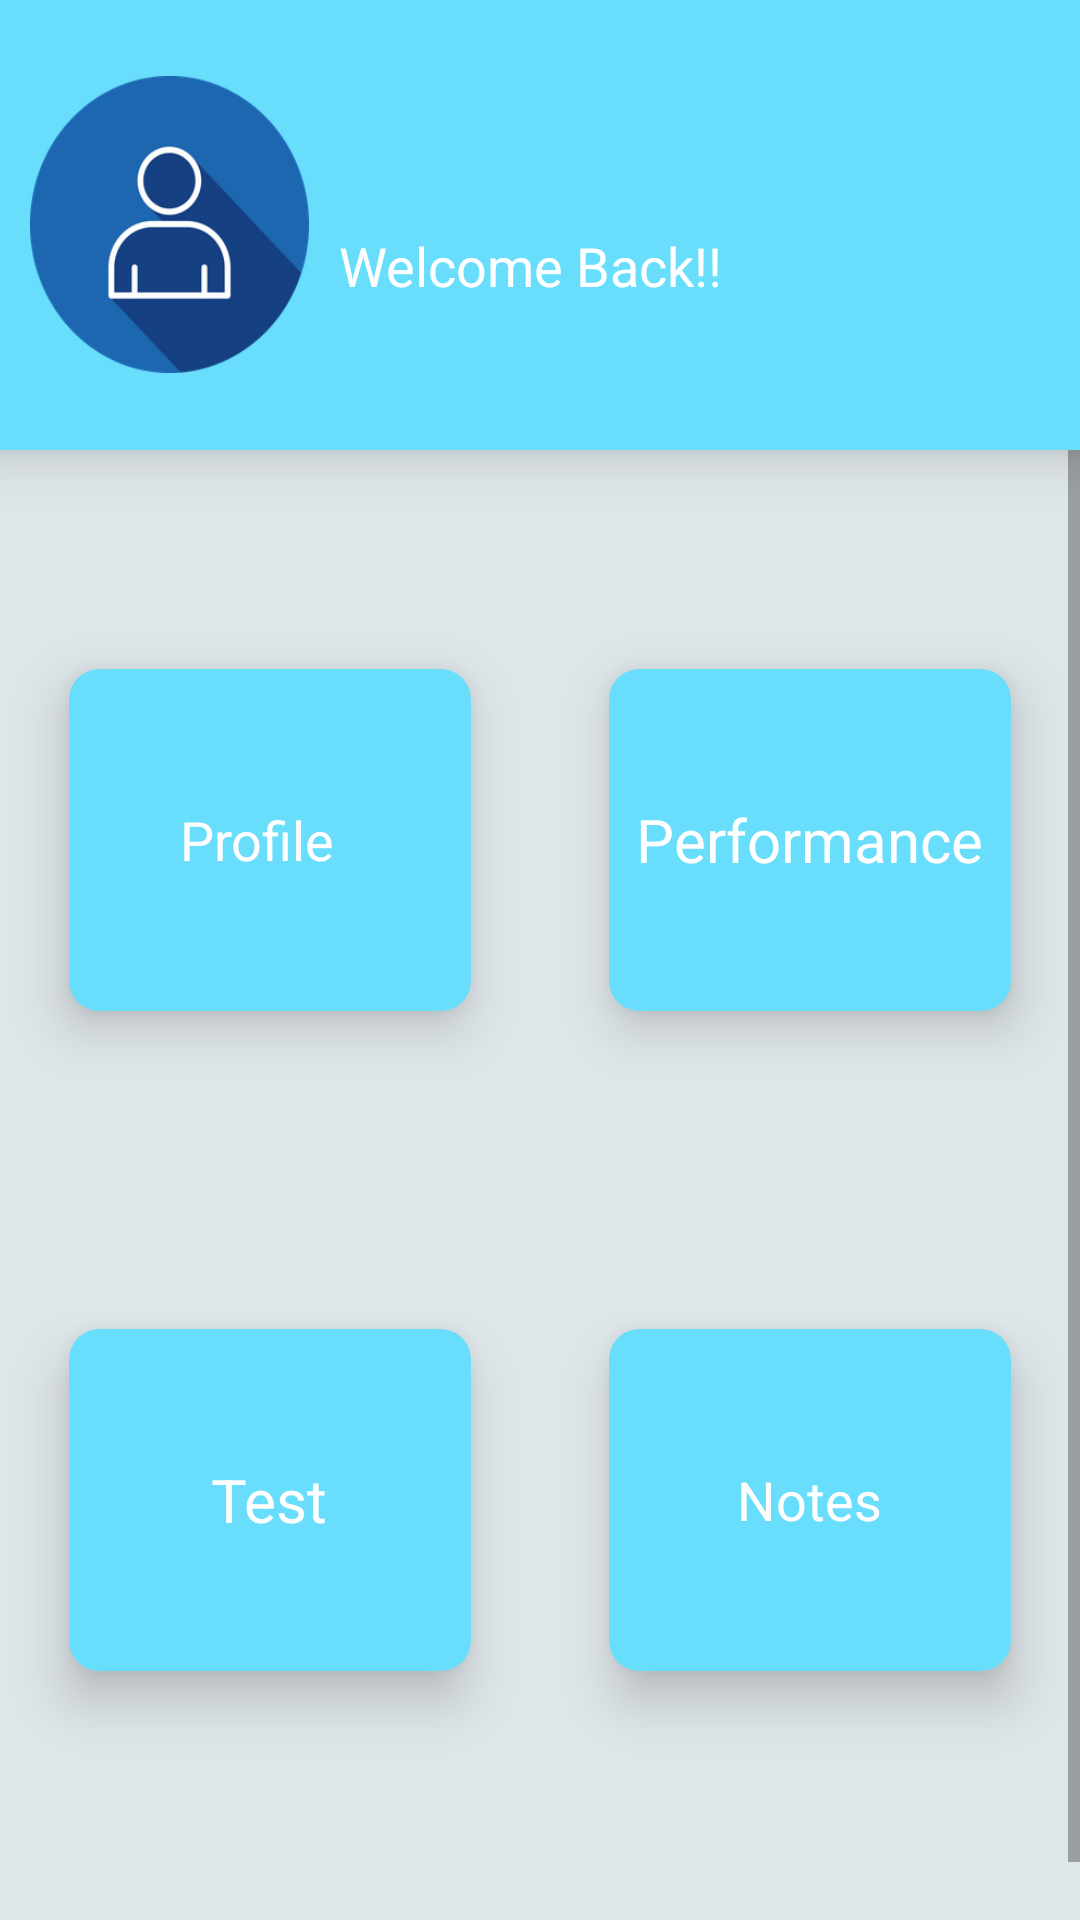

Named icons in this screenshot (1080w x 1920h) and their bounding boxes, (x1, y1, x2, y2):
profilepic: (30, 76, 309, 373)
